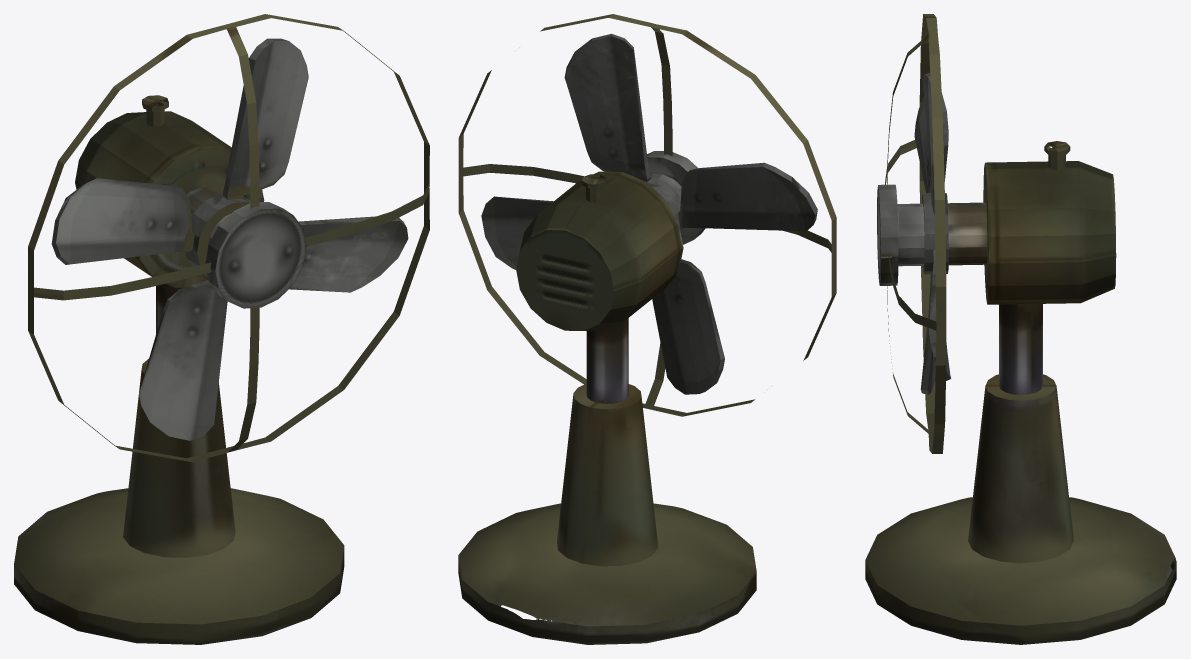
Rendered from Desk Fan animated.fbx.
3 views of the same model, side by side, from view 1: azimuth 30°, elevation 25°; view 2: azimuth 150°, elevation 25°; view 3: azimuth 270°, elevation 25° (orthographic). The views are drawn at different scales.
Visible parts, largest first — view 1: Base, Fans, Fan Body, Fan Cage Ring, Fan Switch; view 2: Base, Fans, Fan Body, Fan Cage Ring, Fan Switch; view 3: Base, Fan Body, Fan Cage Ring, Fans, Fan Switch.
Part boxes in pixels (box(x1,y1,x2,y2)): Base: box(14, 283, 344, 644); Fans: box(51, 38, 408, 440); Fan Body: box(75, 111, 306, 308); Fan Cage Ring: box(28, 14, 429, 462); Fan Switch: box(142, 95, 168, 126); Base: box(458, 318, 756, 644); Fans: box(481, 33, 817, 394); Fan Body: box(516, 151, 705, 330); Fan Cage Ring: box(458, 14, 836, 416); Fan Switch: box(582, 174, 605, 202); Base: box(865, 304, 1176, 644); Fan Body: box(877, 161, 1116, 304); Fan Cage Ring: box(885, 14, 946, 453); Fans: box(914, 73, 950, 394); Fan Switch: box(1044, 141, 1070, 170).
Size of the model in its own units: 379 by 522 by 270.
1 material, 1 textured.
